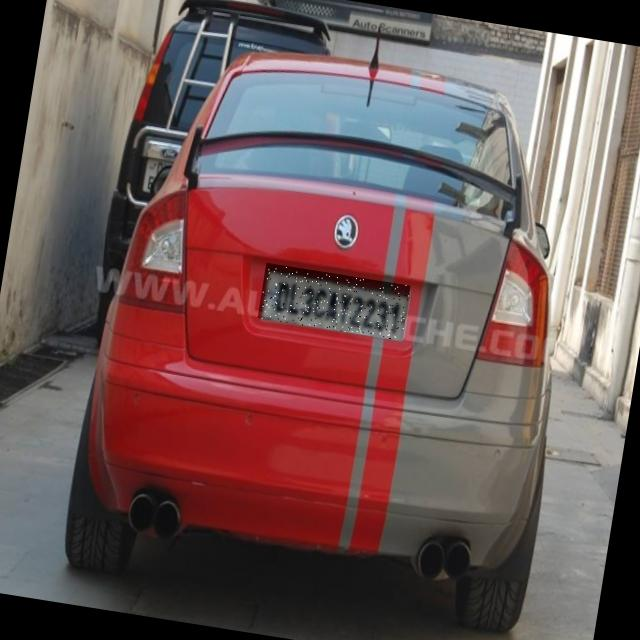Plate: (259, 265, 412, 343)
